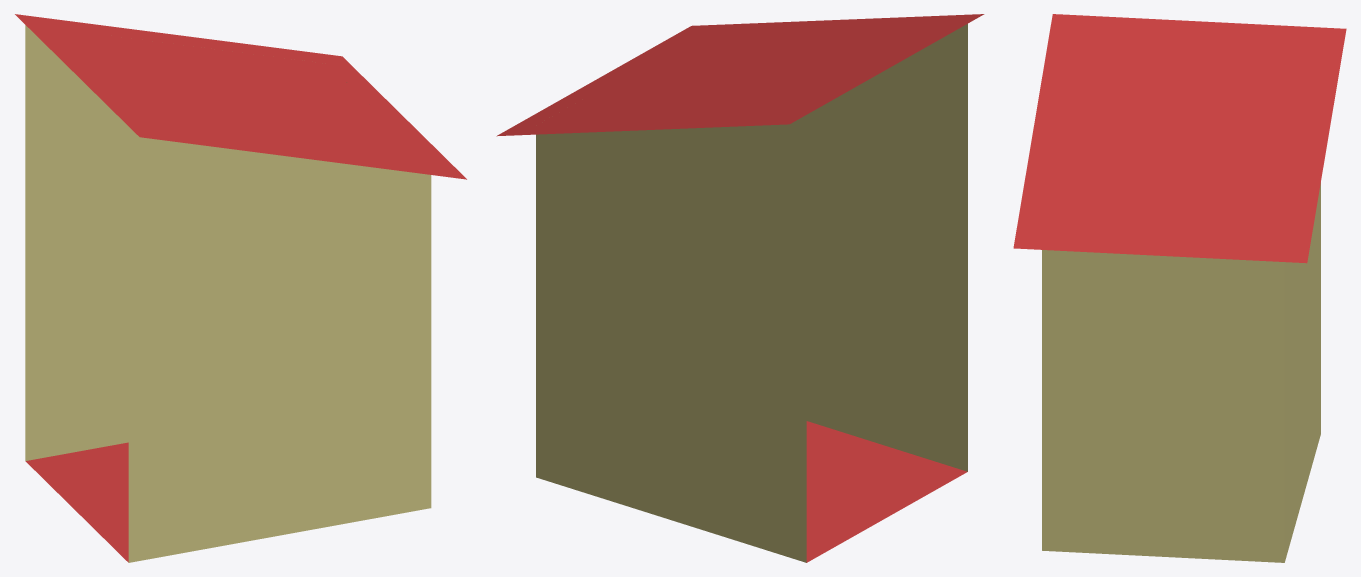
3 views of the same model, side by side, from view 1: azimuth 30°, elevation 25°; view 2: azimuth 150°, elevation 25°; view 3: azimuth 270°, elevation 25° (orthographic). The views are drawn at different scales.
Size of the model in its own units: 7.08 by 6.46 by 8.71.
